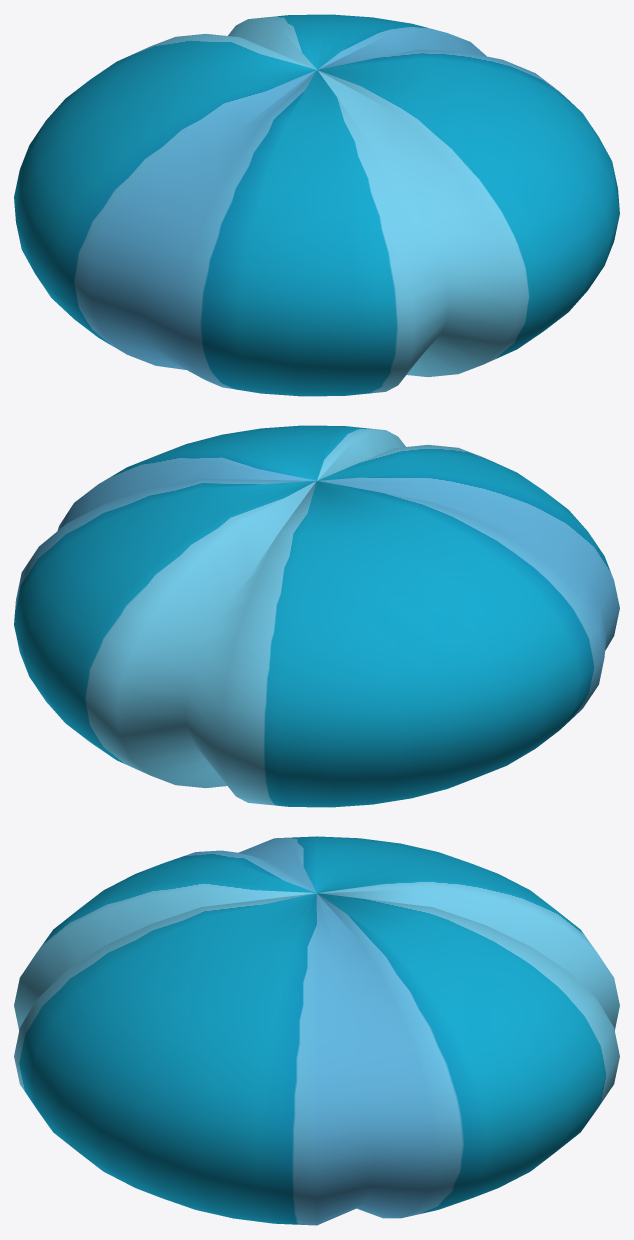
Rendered from bonbon.fbx.
3 views of the same model, one above another, from view 1: azimuth 30°, elevation 25°; view 2: azimuth 150°, elevation 25°; view 3: azimuth 270°, elevation 25° (orthographic).
Visible parts, largest first — view 1: Sphere; view 2: Sphere; view 3: Sphere.
Part boxes in pixels (x1,y1,x2,y2): Sphere: (14,14,619,396); Sphere: (14,425,619,807); Sphere: (14,836,619,1225).
Size of the model in its own units: 200 by 98.52 by 196.
